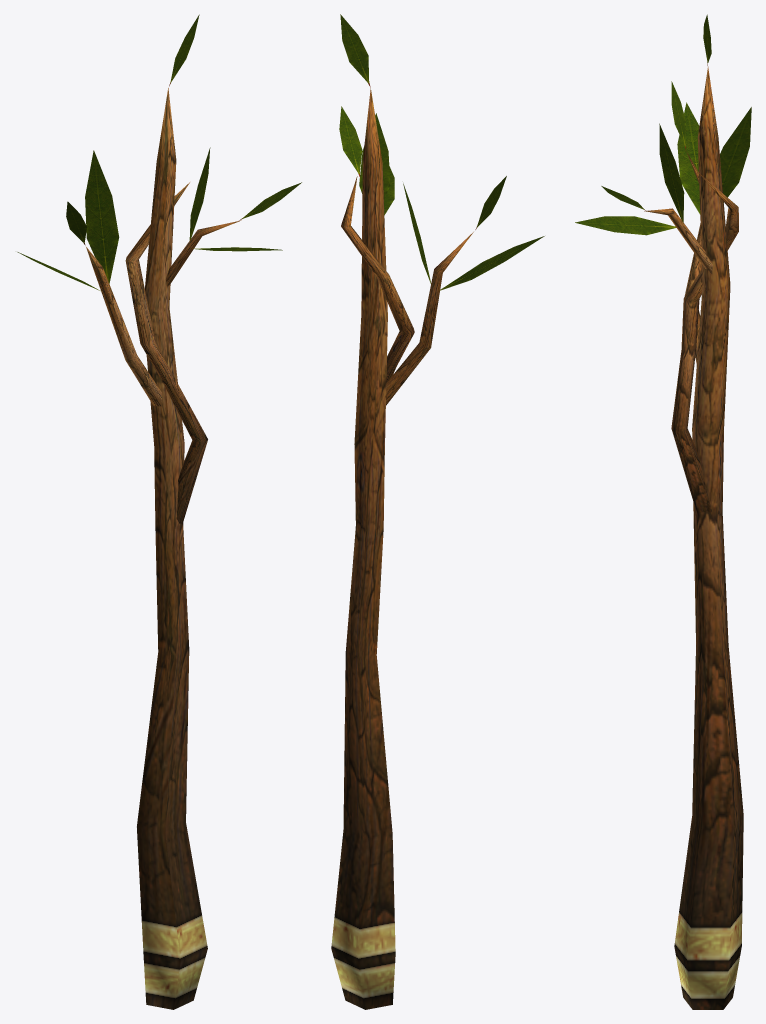
The model's file is staff01.FBX.
The picture shows the model from 3 angles, left to right: view 1: azimuth 30°, elevation 25°; view 2: azimuth 150°, elevation 25°; view 3: azimuth 270°, elevation 25°; orthographic projection. The views are drawn at different scales.
Visible parts, largest first — view 1: staff01; view 2: staff01; view 3: staff01.
Boxes of the visible parts, x1,y1,x2,y2 form: staff01: [17, 14, 301, 1009]; staff01: [331, 14, 544, 1009]; staff01: [575, 14, 751, 1009].
Bounding box in the file's own units: 0.6759 × 2.56 × 0.4118.
